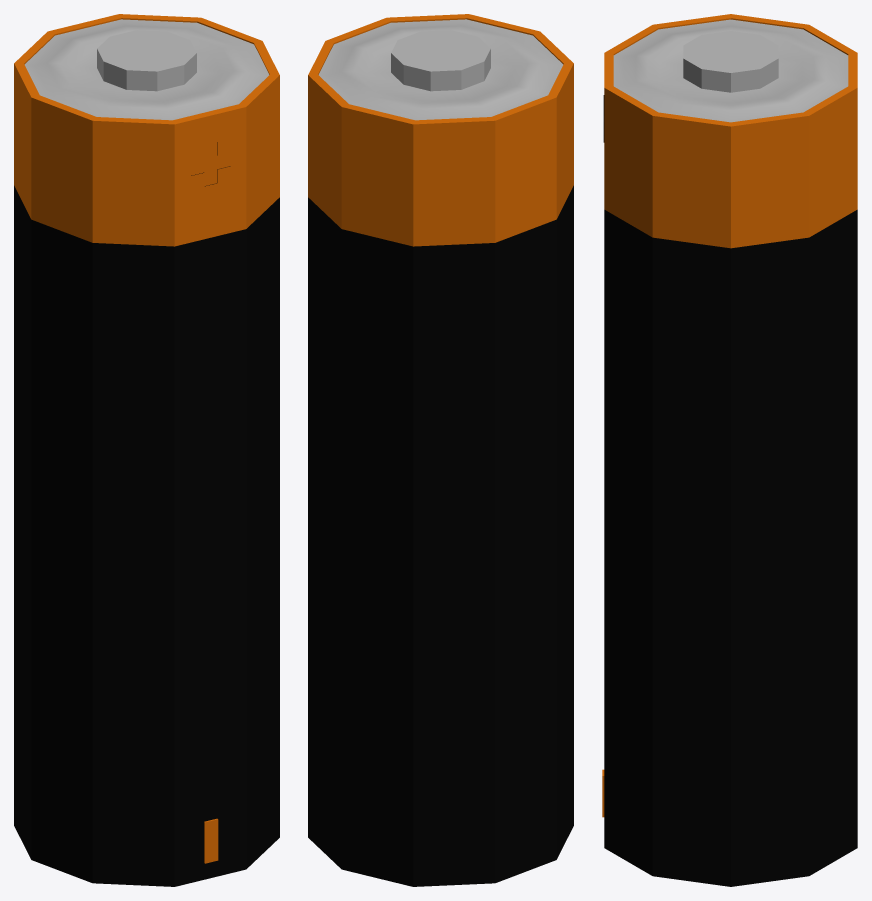
File: AABattery_V2.fbx
3 views of the same model, side by side, from view 1: azimuth 30°, elevation 25°; view 2: azimuth 150°, elevation 25°; view 3: azimuth 270°, elevation 25° (orthographic).
Visible parts, largest first — view 1: polySurface1; view 2: polySurface1; view 3: polySurface1.
Boxes of the visible parts, x1,y1,x2,y2 form: polySurface1: [14, 14, 279, 886]; polySurface1: [308, 14, 573, 886]; polySurface1: [602, 14, 857, 886].
Bounding box in the file's own units: 10.8 × 35.25 × 10.35.
